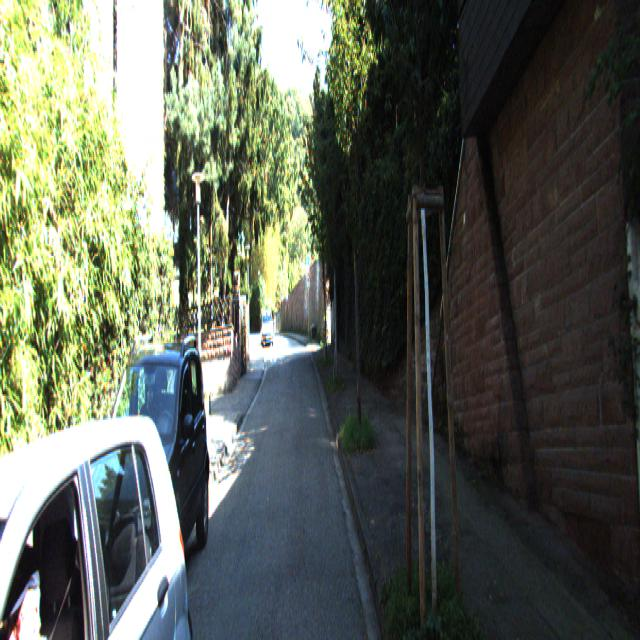Car: (0, 376, 201, 638), (83, 324, 212, 638), (261, 310, 274, 350)
